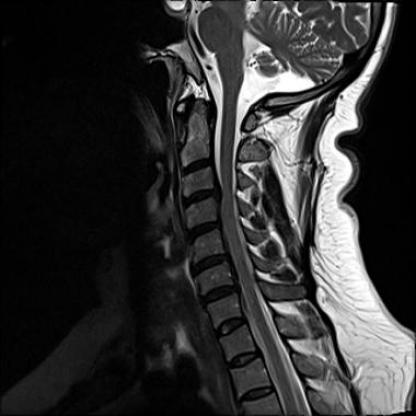Disc Protrusionrotation: (199, 285, 240, 306), (189, 256, 231, 274), (181, 189, 218, 207)
